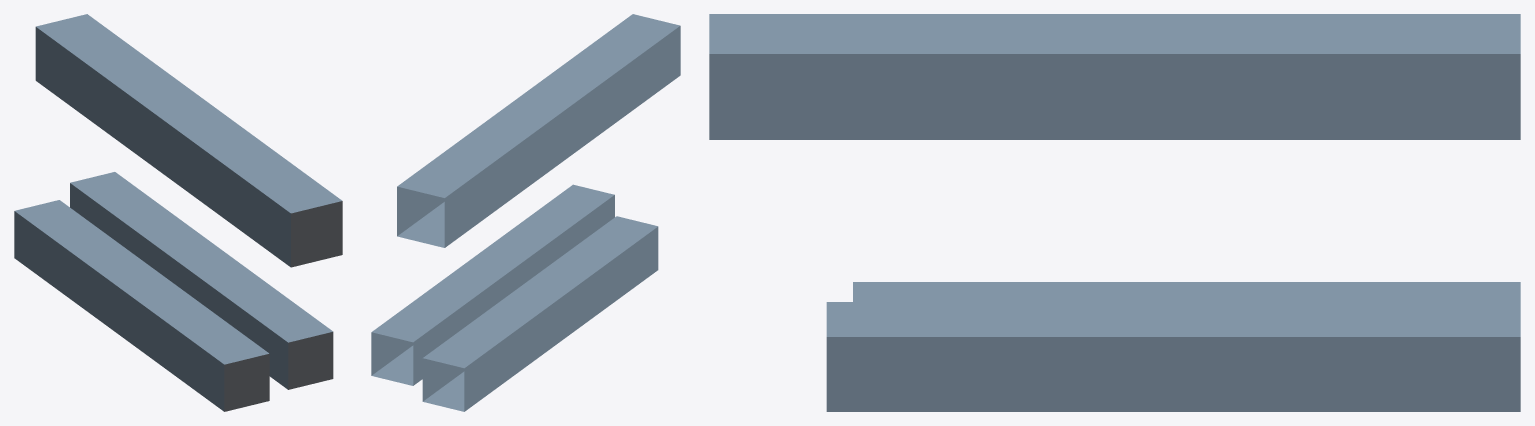
Rendered from island_bldg_09_07.obj.
3 views of the same model, side by side, from view 1: azimuth 30°, elevation 25°; view 2: azimuth 150°, elevation 25°; view 3: azimuth 270°, elevation 25° (orthographic). The views are drawn at different scales.
Visible parts, largest first — view 1: island_bldg_09_07; view 2: island_bldg_09_07; view 3: island_bldg_09_07.
Part boxes in pixels (left/top/right/bottom): island_bldg_09_07: left=14, top=14, right=342, bottom=411; island_bldg_09_07: left=371, top=14, right=680, bottom=411; island_bldg_09_07: left=709, top=14, right=1520, bottom=411.
Bounding box in the file's own units: 62.4 × 134 × 274.
